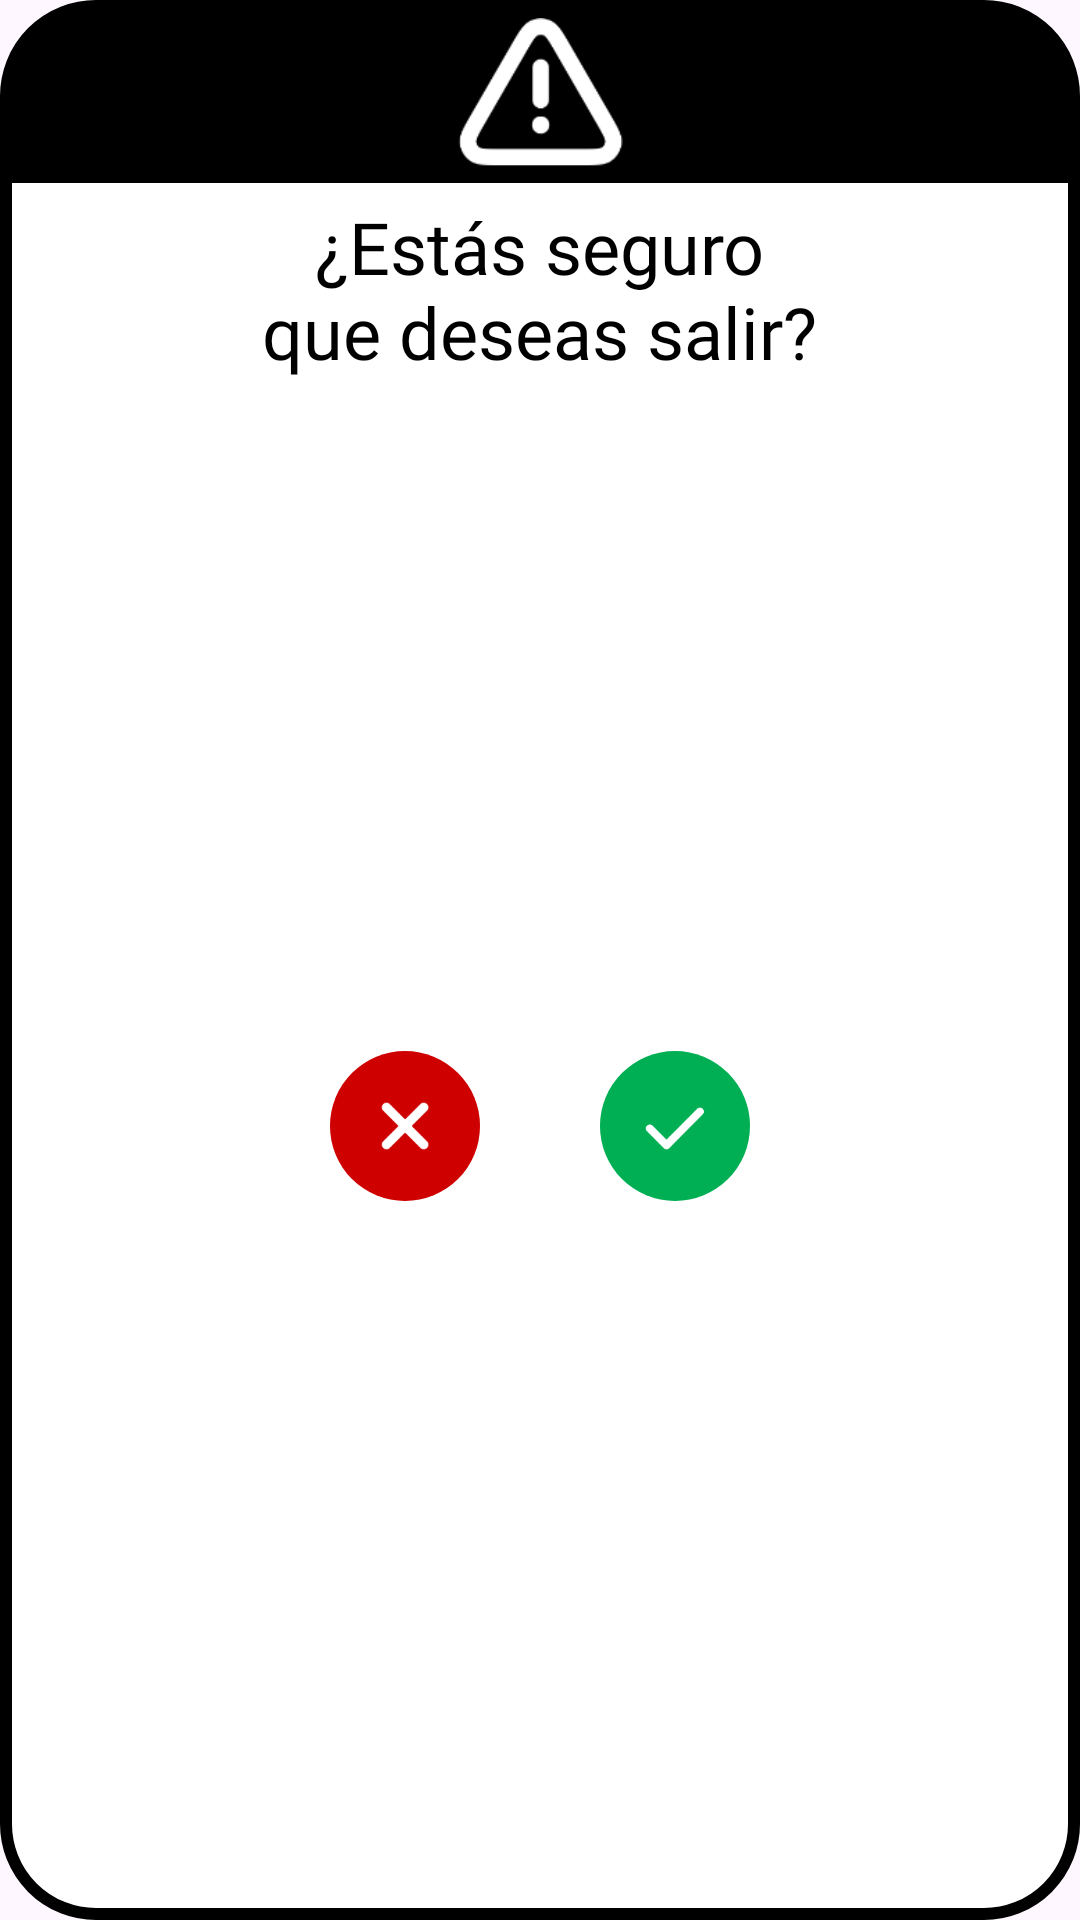

Where to tap for icons on this 1080px x 1920px app screen, as point (x, y):
aceptar: point (675, 1126)
cancelar: point (405, 1126)
